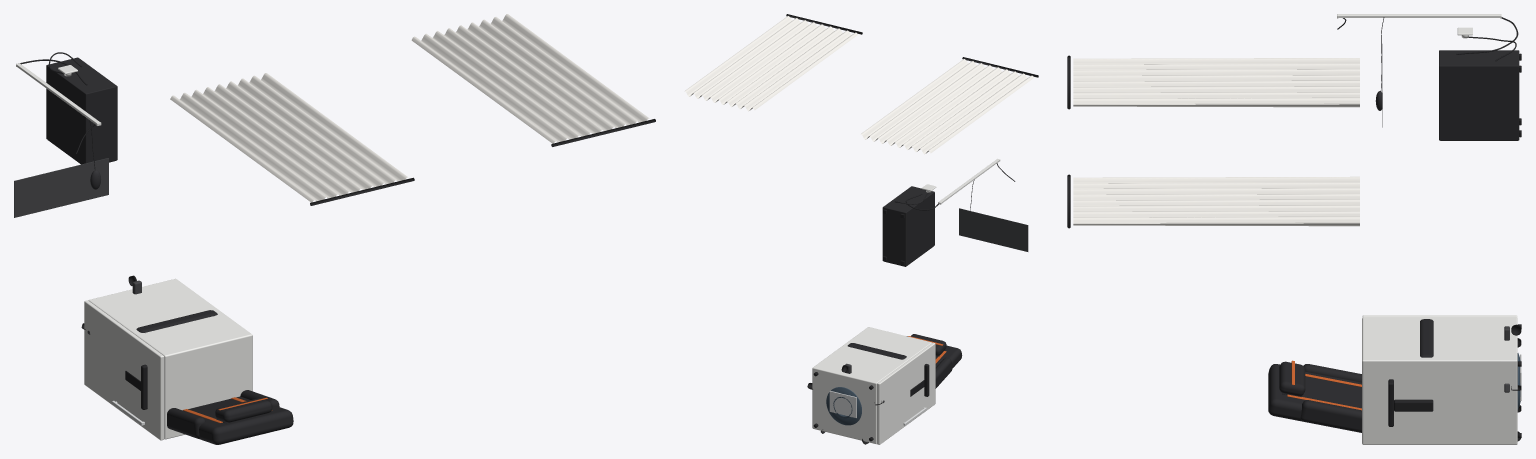
The model's file is oda-esya.glb.
The picture shows the model from 3 angles, left to right: view 1: azimuth 30°, elevation 25°; view 2: azimuth 150°, elevation 25°; view 3: azimuth 270°, elevation 25°; orthographic projection. The views are drawn at different scales.
Visible parts, largest first — view 1: perde, buzdolabi_govde, kapak_panel, kasa_govde, mousepad, koltuk_sirt_pano, koltuk_boyun_yastigi, koltuk_sirt_kanat; view 2: perde, buzdolabi_govde, kapak_panel, kasa_govde, mousepad, monitor_ayak, tabak; view 3: perde, buzdolabi_govde, kasa_govde, koltuk_sirt_pano, koltuk_sirt_kanat.001, koltuk_boyun_yastigi, kablo_kanali, koltuk_oturak, koltuk_sirt_kanat, koltuk_kolcak_ayak.001, kapak_panel.
Part boxes in pixels (x1=…): perde: x1=170, y1=14, x2=649, y2=202; buzdolabi_govde: x1=88, y1=278, x2=252, y2=439; kapak_panel: x1=84, y1=300, x2=164, y2=440; kasa_govde: x1=46, y1=57, x2=117, y2=164; mousepad: x1=14, y1=158, x2=108, y2=217; koltuk_sirt_pano: x1=183, y1=396, x2=293, y2=444; koltuk_boyun_yastigi: x1=215, y1=398, x2=272, y2=422; koltuk_sirt_kanat: x1=167, y1=408, x2=205, y2=438; perde: x1=684, y1=16, x2=1034, y2=154; buzdolabi_govde: x1=812, y1=327, x2=932, y2=444; kapak_panel: x1=877, y1=342, x2=935, y2=444; kasa_govde: x1=882, y1=186, x2=934, y2=266; mousepad: x1=959, y1=208, x2=1028, y2=251; monitor_ayak: x1=829, y1=391, x2=856, y2=418; tabak: x1=826, y1=387, x2=861, y2=425; perde: x1=1073, y1=58, x2=1359, y2=226; buzdolabi_govde: x1=1362, y1=317, x2=1517, y2=444; kasa_govde: x1=1439, y1=50, x2=1519, y2=140; koltuk_sirt_pano: x1=1268, y1=364, x2=1361, y2=432; koltuk_sirt_kanat.001: x1=1300, y1=400, x2=1361, y2=432; koltuk_boyun_yastigi: x1=1279, y1=361, x2=1305, y2=395; kablo_kanali: x1=1338, y1=14, x2=1500, y2=17; koltuk_oturak: x1=1420, y1=319, x2=1433, y2=357; koltuk_sirt_kanat: x1=1303, y1=364, x2=1361, y2=382; koltuk_kolcak_ayak.001: x1=1394, y1=399, x2=1433, y2=411; kapak_panel: x1=1362, y1=315, x2=1517, y2=317.
Size of the model in its own units: 3020 by 2071 by 2421.
